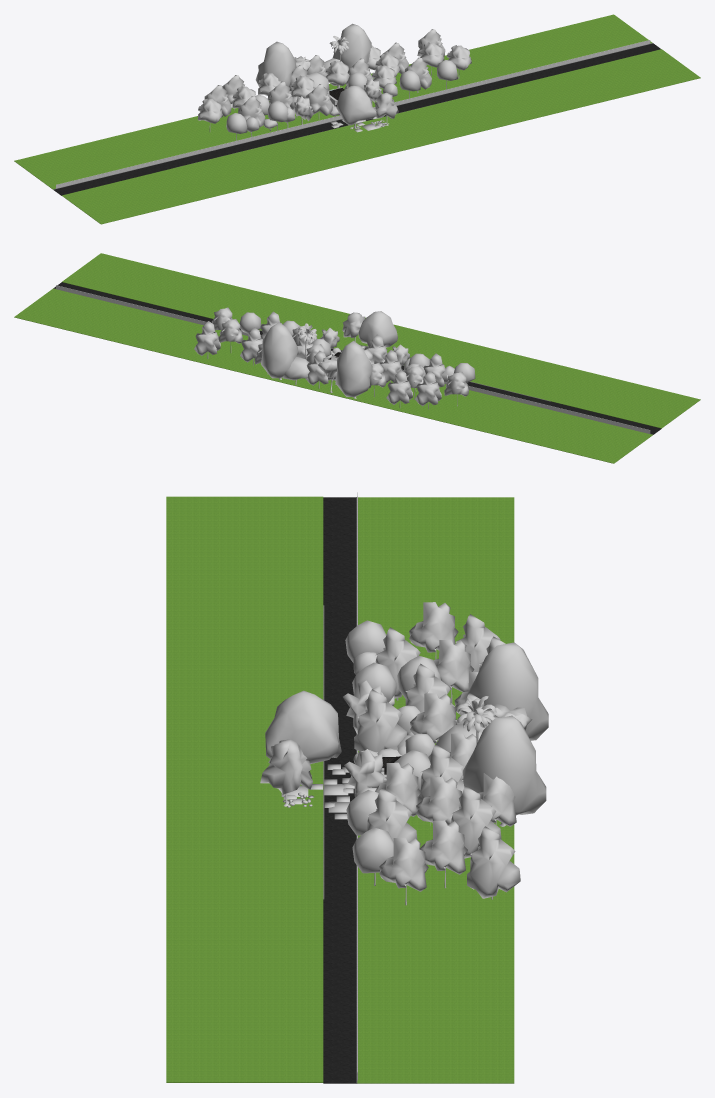
Rendered from pramuka.glb.
3 renders of one model, top to bottom at view 1: azimuth 30°, elevation 25°; view 2: azimuth 150°, elevation 25°; view 3: azimuth 270°, elevation 25°, orthographic. The views are drawn at different scales.
Parts seen in each view (by area): view 1: empty_765, empty_697, empty_362, empty_703, empty_704, empty_246, empty_308, empty_309, empty_232, empty_243, empty_245, empty_238 (+16 smaller); view 2: empty_765, empty_697, empty_362, empty_308, empty_309, empty_246, empty_703, empty_704, empty_231, empty_234, empty_228, empty_225 (+9 smaller); view 3: empty_765, empty_697, empty_362, empty_309, empty_308, empty_246, empty_231, empty_232, empty_245, empty_244, empty_242, empty_233 (+17 smaller).
Boxes of the visible parts, x1=… form: empty_765: x1=61, y1=49, x2=700, y2=224; empty_697: x1=14, y1=14, x2=652, y2=189; empty_362: x1=53, y1=43, x2=660, y2=195; empty_703: x1=56, y1=115, x2=342, y2=188; empty_704: x1=373, y1=40, x2=650, y2=110; empty_246: x1=336, y1=85, x2=376, y2=128; empty_308: x1=255, y1=41, x2=295, y2=86; empty_309: x1=332, y1=23, x2=371, y2=68; empty_232: x1=306, y1=84, x2=332, y2=119; empty_243: x1=197, y1=98, x2=222, y2=131; empty_245: x1=374, y1=92, x2=398, y2=125; empty_238: x1=325, y1=61, x2=349, y2=88; empty_765: x1=62, y1=253, x2=700, y2=428; empty_697: x1=14, y1=288, x2=652, y2=463; empty_362: x1=54, y1=282, x2=661, y2=434; empty_308: x1=335, y1=341, x2=372, y2=398; empty_309: x1=261, y1=322, x2=297, y2=379; empty_246: x1=358, y1=311, x2=397, y2=347; empty_703: x1=402, y1=369, x2=650, y2=433; empty_704: x1=56, y1=285, x2=261, y2=336; empty_231: x1=194, y1=321, x2=220, y2=358; empty_234: x1=386, y1=370, x2=412, y2=407; empty_228: x1=415, y1=371, x2=441, y2=409; empty_225: x1=305, y1=350, x2=331, y2=388; empty_765: x1=166, y1=496, x2=323, y2=1082; empty_697: x1=357, y1=497, x2=514, y2=1083; empty_362: x1=323, y1=497, x2=357, y2=1083; empty_309: x1=463, y1=715, x2=546, y2=826; empty_308: x1=465, y1=642, x2=548, y2=740; empty_246: x1=265, y1=690, x2=341, y2=763; empty_231: x1=467, y1=826, x2=520, y2=899; empty_232: x1=354, y1=689, x2=407, y2=752; empty_245: x1=260, y1=739, x2=312, y2=806; empty_244: x1=379, y1=837, x2=428, y2=905; empty_242: x1=419, y1=820, x2=467, y2=888; empty_233: x1=451, y1=786, x2=501, y2=858.
Bounding box in the file's own units: 209 × 18.48 × 57.53.
Materials: 88 (41 with a texture image).
